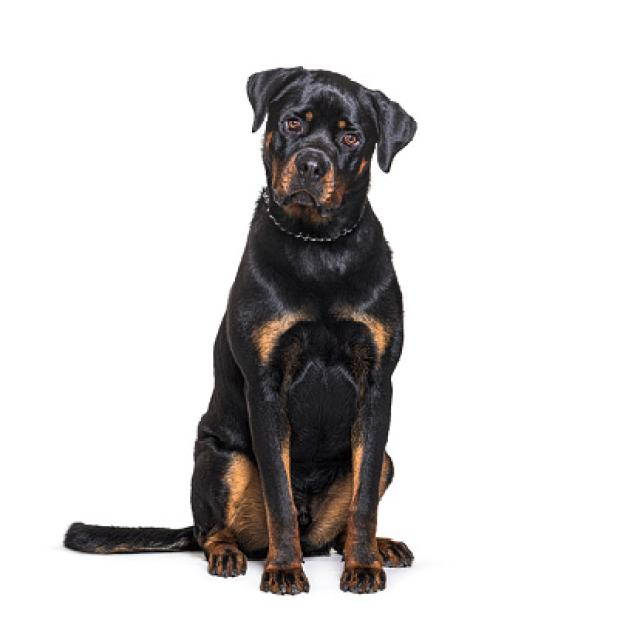rottweiler: (214, 38, 427, 260)
